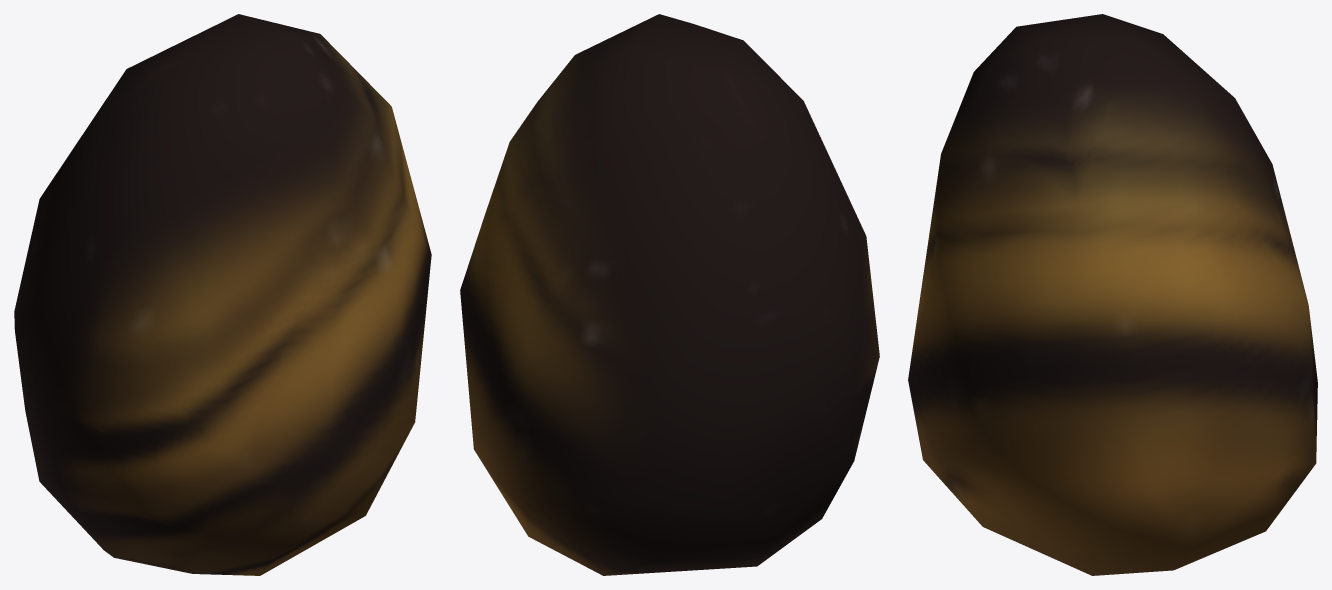
File: SM_Gem_EyeOfTiger_Piece_001.fbx
3 renders of one model, left to right at view 1: azimuth 30°, elevation 25°; view 2: azimuth 150°, elevation 25°; view 3: azimuth 270°, elevation 25°, orthographic. The views are drawn at different scales.
Parts seen in each view (by area): view 1: SM_Gem_EyeOfTiger_Piece_001; view 2: SM_Gem_EyeOfTiger_Piece_001; view 3: SM_Gem_EyeOfTiger_Piece_001.
Boxes of the visible parts, x1,y1,x2,y2 form: SM_Gem_EyeOfTiger_Piece_001: (14,14,431,575); SM_Gem_EyeOfTiger_Piece_001: (460,14,879,575); SM_Gem_EyeOfTiger_Piece_001: (908,14,1317,575).
Bounding box in the file's own units: 14.04 × 19.32 × 13.28.
